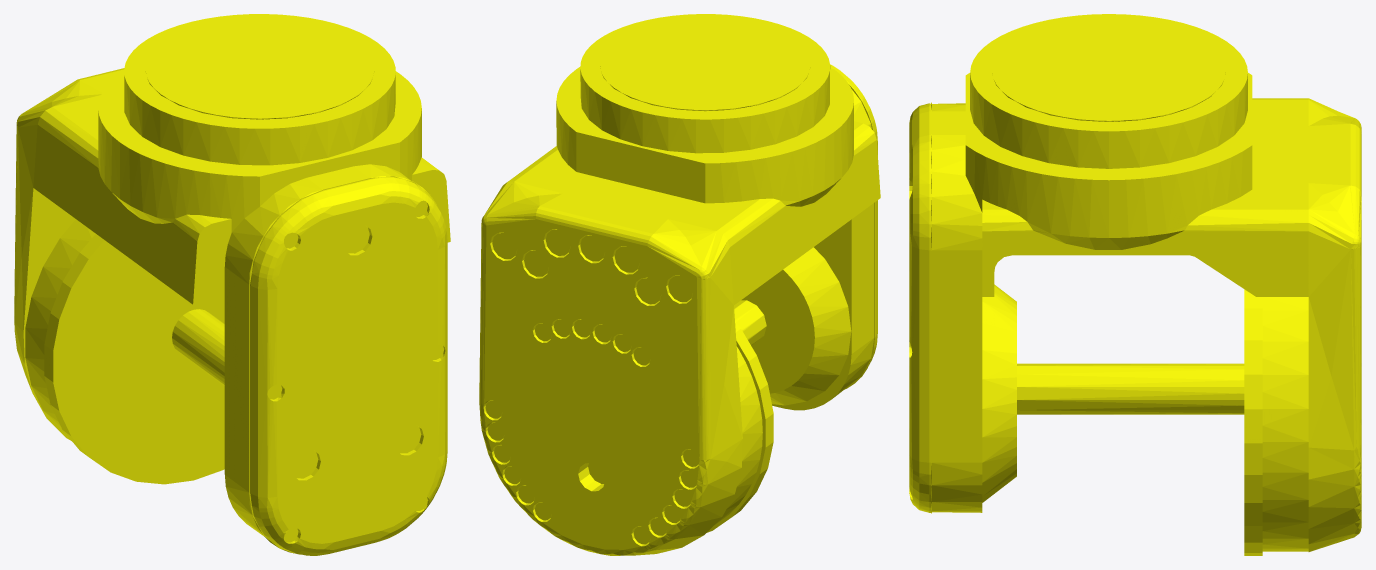
3 renders of one model, left to right at view 1: azimuth 30°, elevation 25°; view 2: azimuth 150°, elevation 25°; view 3: azimuth 270°, elevation 25°, orthographic. The views are drawn at different scales.
Visible parts, largest first — view 1: node; view 2: node; view 3: node.
Part boxes in pixels (x1,y1,x2,y2): node: [14, 14, 450, 555]; node: [479, 14, 880, 555]; node: [909, 14, 1361, 555].
Bounding box in the file's own units: 191 × 298 × 260.
